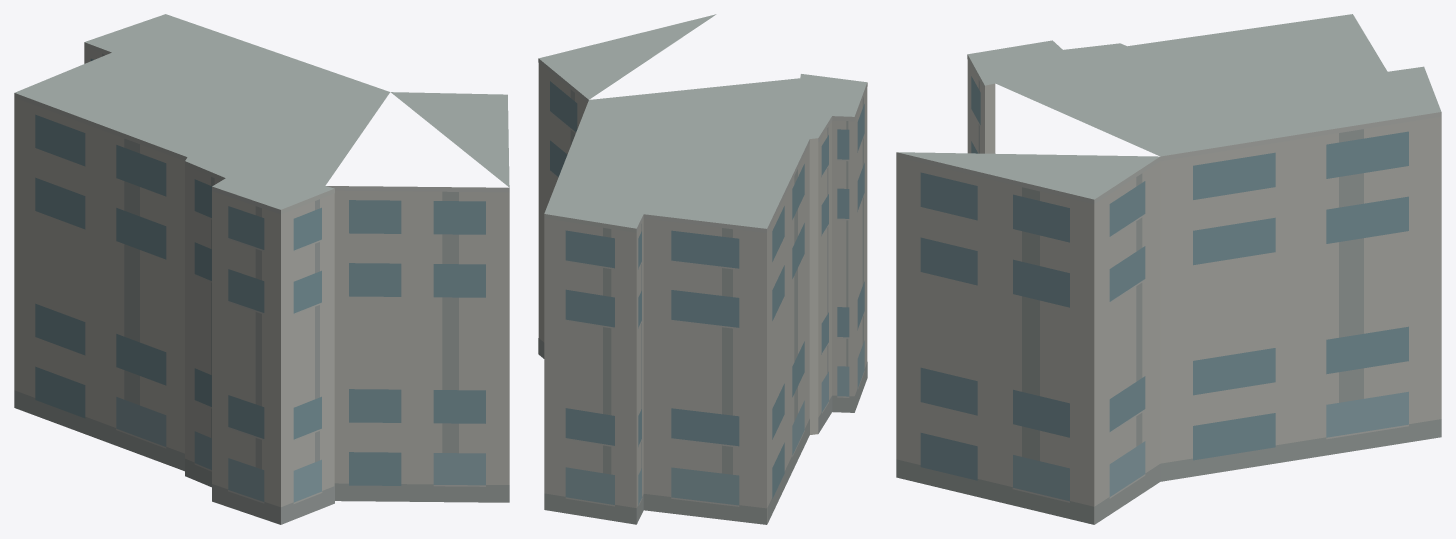
Rendered from survey-upis-32494084.glb.
3 renders of one model, left to right at view 1: azimuth 30°, elevation 25°; view 2: azimuth 150°, elevation 25°; view 3: azimuth 270°, elevation 25°, orthographic. The views are drawn at different scales.
Parts seen in each view (by area): view 1: survey-upis-32494084.tmp; view 2: survey-upis-32494084.tmp; view 3: survey-upis-32494084.tmp.
Boxes of the visible parts, <box> form: survey-upis-32494084.tmp: <box>14,14,509,524</box>; survey-upis-32494084.tmp: <box>538,14,867,524</box>; survey-upis-32494084.tmp: <box>896,14,1441,524</box>.
Size of the model in its own units: 19.88 by 16.24 by 24.67.
